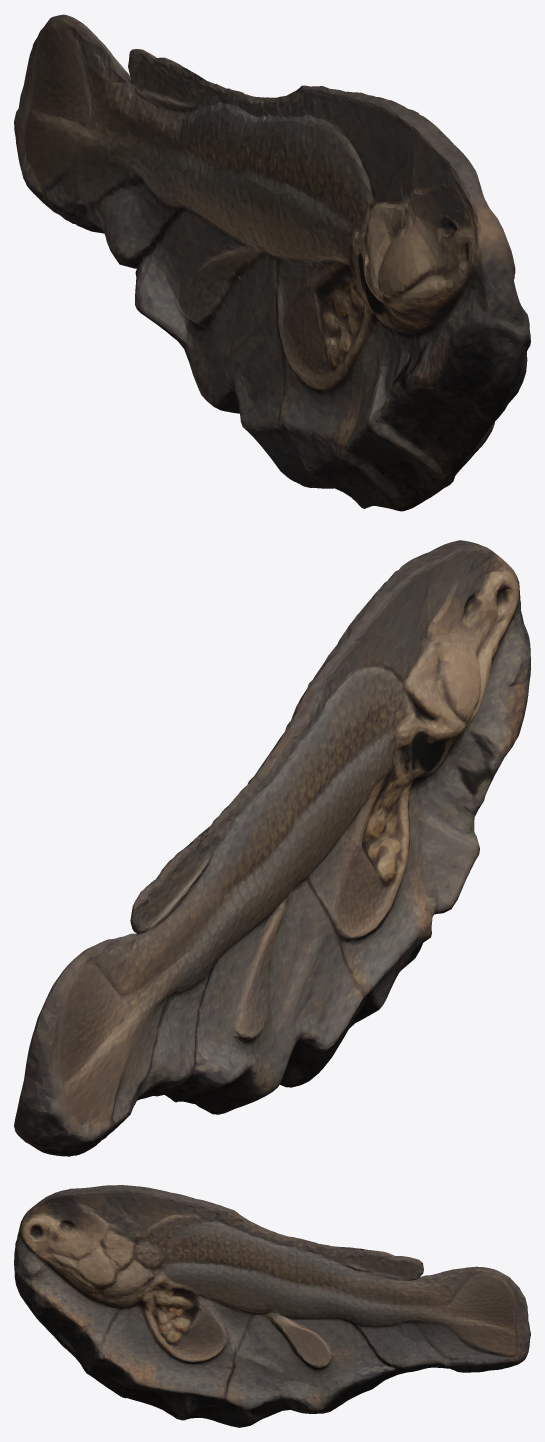
3 renders of one model, top to bottom at view 1: azimuth 30°, elevation 25°; view 2: azimuth 150°, elevation 25°; view 3: azimuth 270°, elevation 25°, orthographic. The views are drawn at different scales.
Parts seen in each view (by area): view 1: geometry_0; view 2: geometry_0; view 3: geometry_0.
Part boxes in pixels (x1=…): geometry_0: x1=14, y1=14, x2=530, y2=511; geometry_0: x1=14, y1=540, x2=530, y2=1156; geometry_0: x1=14, y1=1185, x2=530, y2=1427.
Bounding box in the file's own units: 0.2518 × 0.8568 × 1.67.
9 materials, 9 textured.
